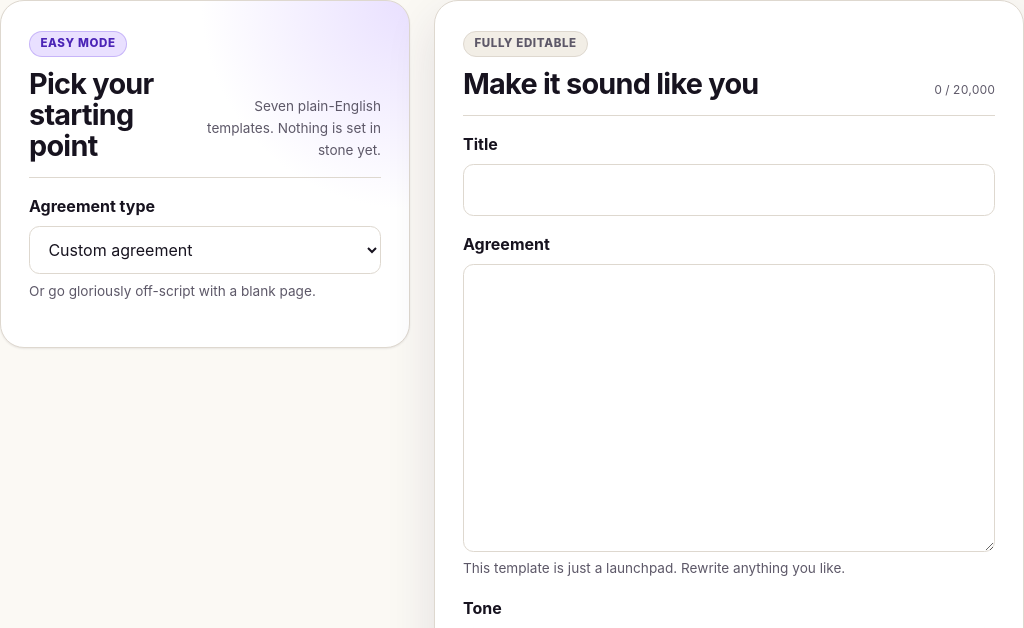
Scenario: ContractForm easter egg › ignores case and surrounding whitespace
Type "  sssb  " into the field labelled "Title".
click(729, 190); type("  sssb  ")  # box left=463, top=164, right=995, bottom=216
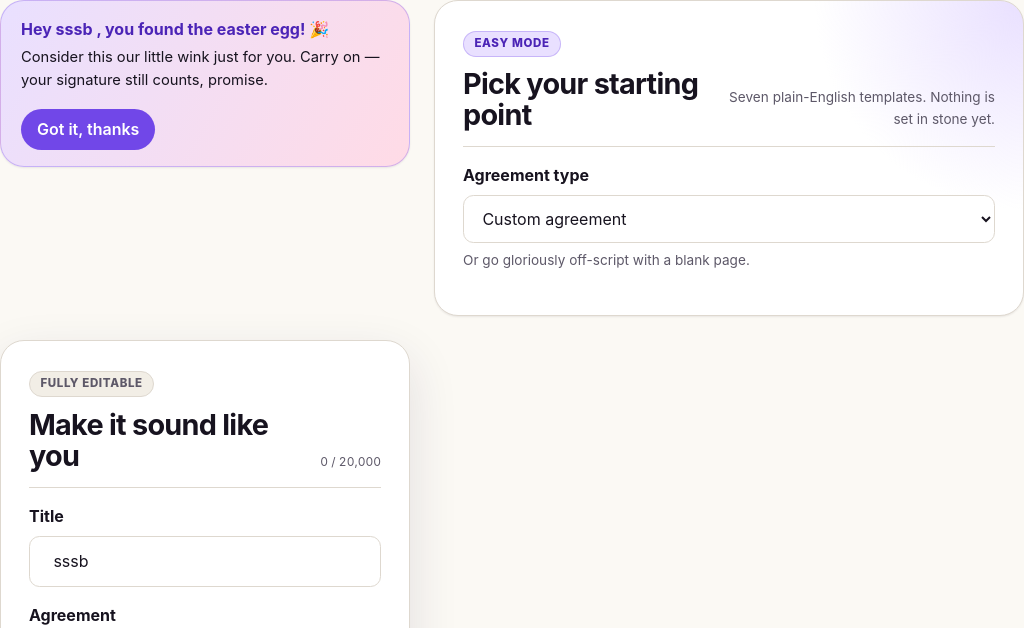
Check: the text "Hey sssb , you found the easter egg! 🎉" is shown, box left=21, top=19, right=329, bottom=39
